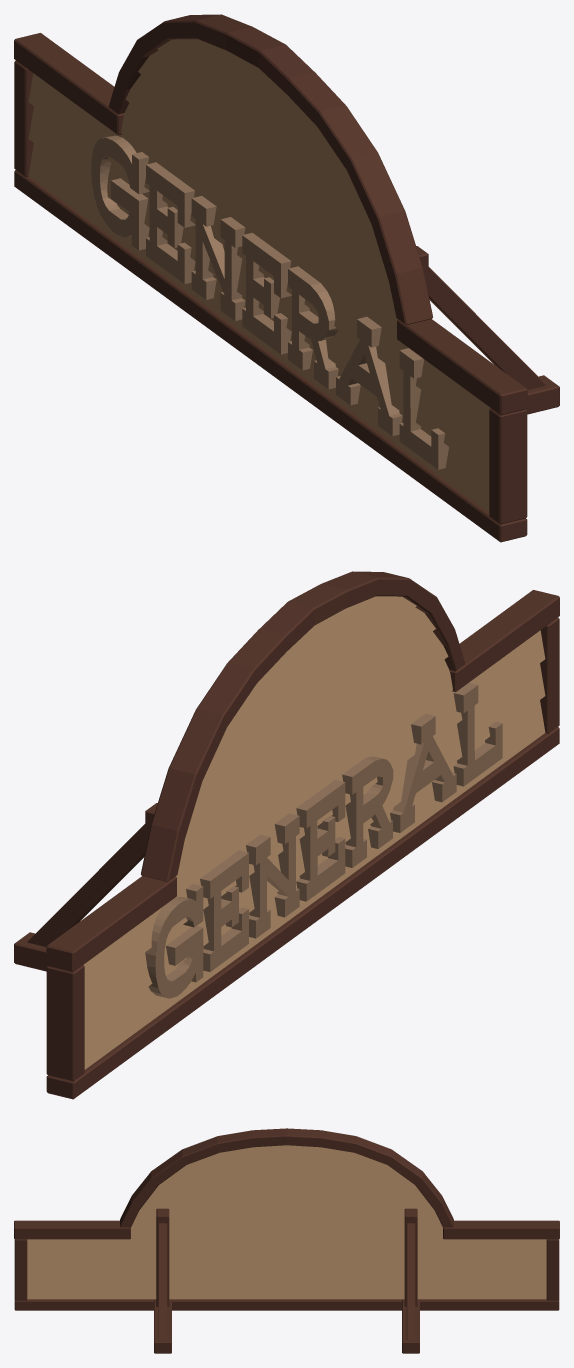
The model's file is general-sign-a.glb.
3 renders of one model, top to bottom at view 1: azimuth 30°, elevation 25°; view 2: azimuth 150°, elevation 25°; view 3: azimuth 270°, elevation 25°, orthographic. The views are drawn at different scales.
Parts seen in each view (by area): view 1: General Sign A (×3); view 2: General Sign A (×3); view 3: General Sign A (×2).
Part boxes in pixels (box(x1,y1,x2,y2)): General Sign A (×3): box(14, 14, 559, 542); General Sign A (×3): box(14, 571, 559, 1099); General Sign A (×2): box(14, 1128, 559, 1353).
Bounding box in the file's own units: 1.46 × 2.35 × 6.6.
